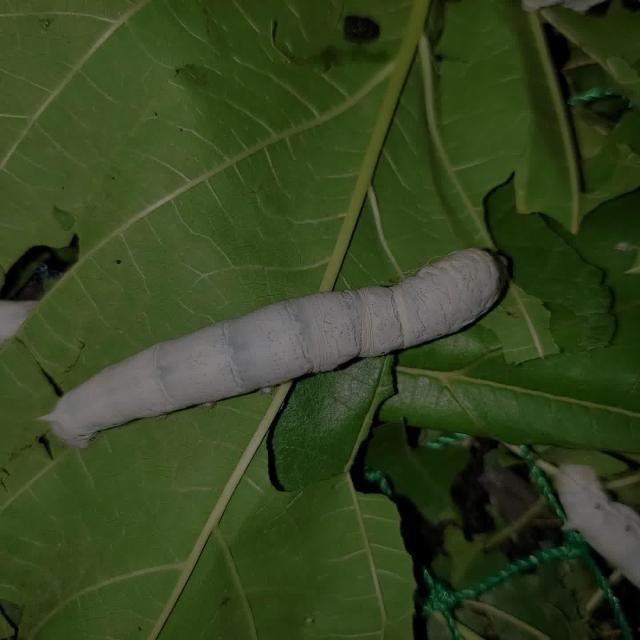Healthy: (32, 238, 519, 451)
